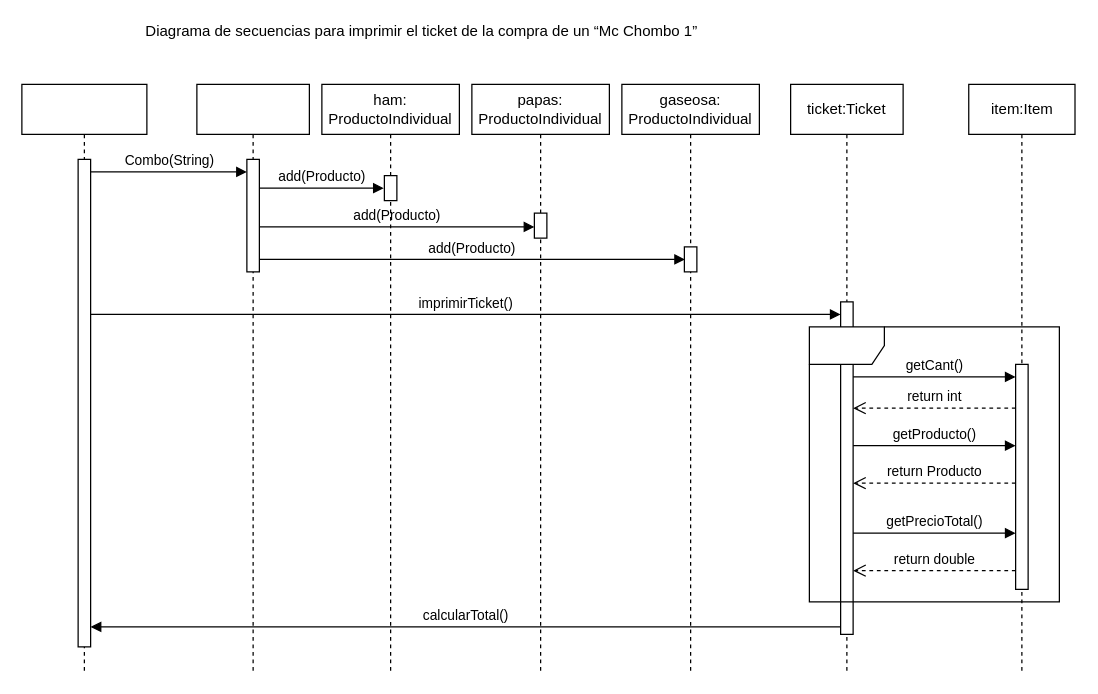
Some shapes in this 1098 by 694 pixel diagram are drawn without their labels. The shapes that lost their labels are listed below. From the top down, each one's box as (x1, y1, x2, y2) in pixels, then its label:
(21, 83, 147, 672): cliente:Cliente
(196, 83, 309, 672): mc Chombo 1: Combo
(808, 326, 1059, 602): loop for each
